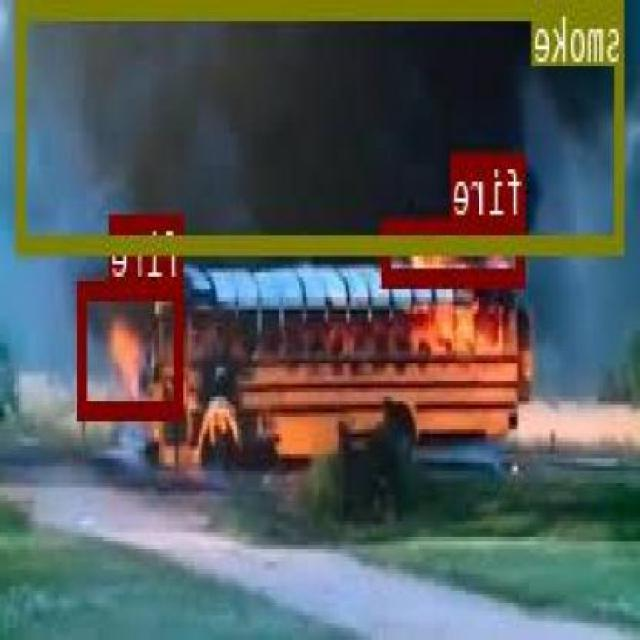Fire: (80, 278, 186, 417), (384, 215, 526, 283)
Smoke: (20, 0, 626, 252)
